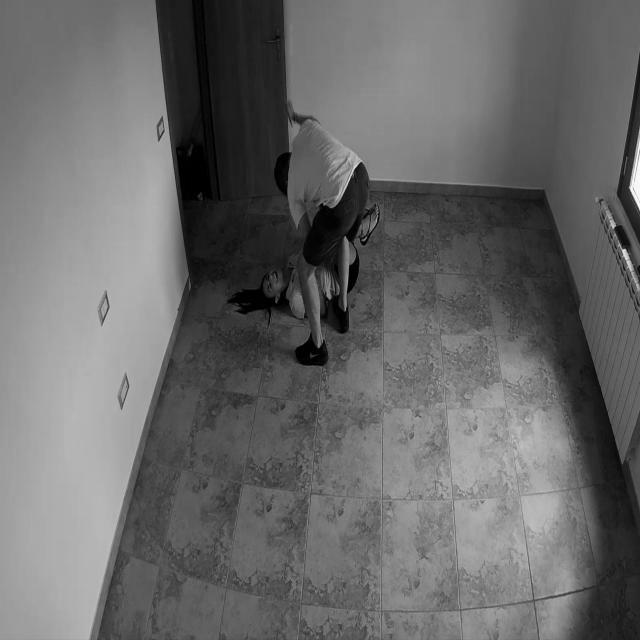weapon: (288, 118, 294, 129)
